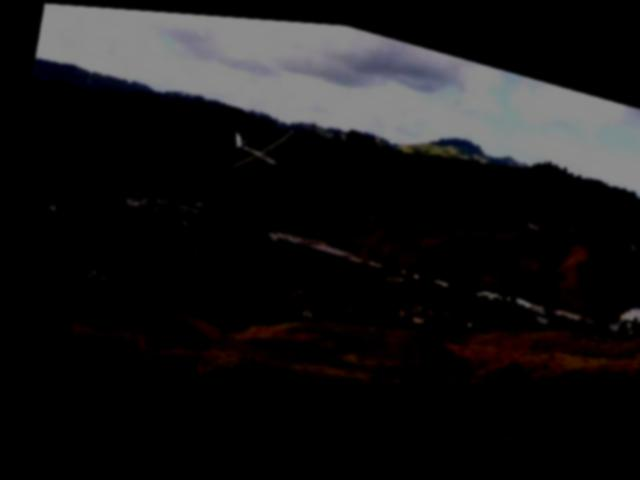iha: (224, 109, 297, 182)
